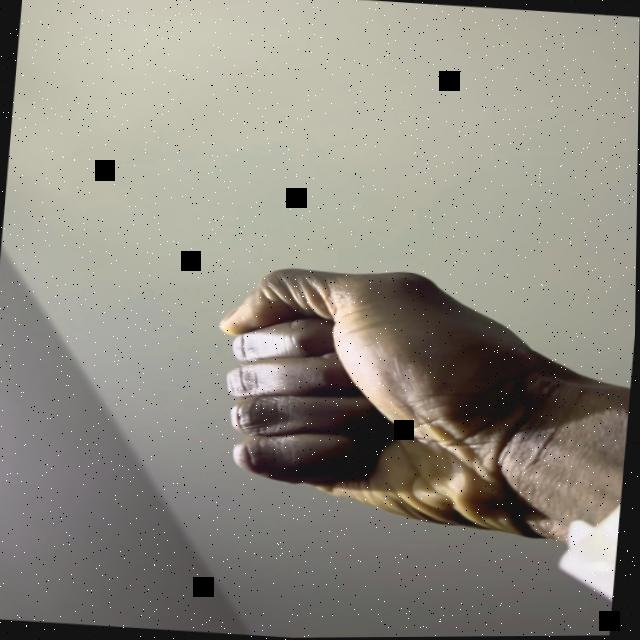Rock: (204, 258, 584, 548)
